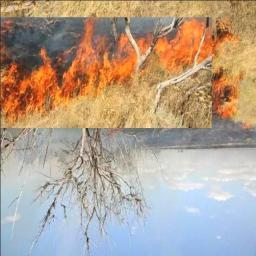Low smoke: (11, 133, 182, 211)
Medium fire: (0, 18, 242, 128)
